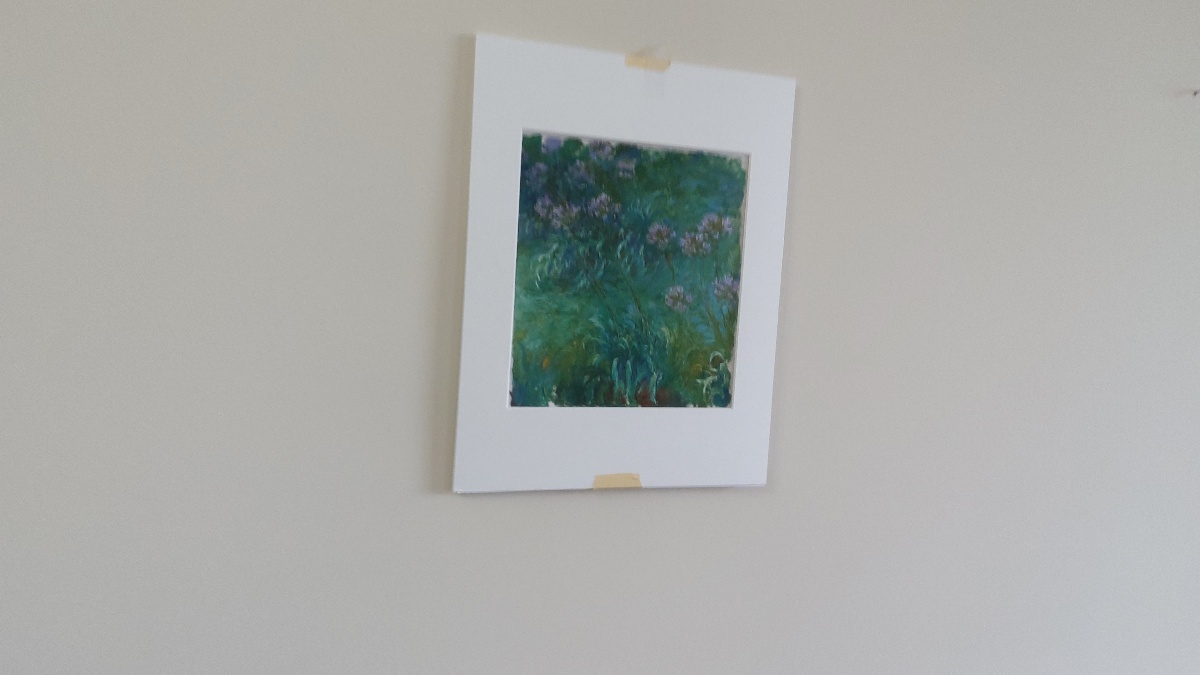painting: (503, 111, 752, 433)
